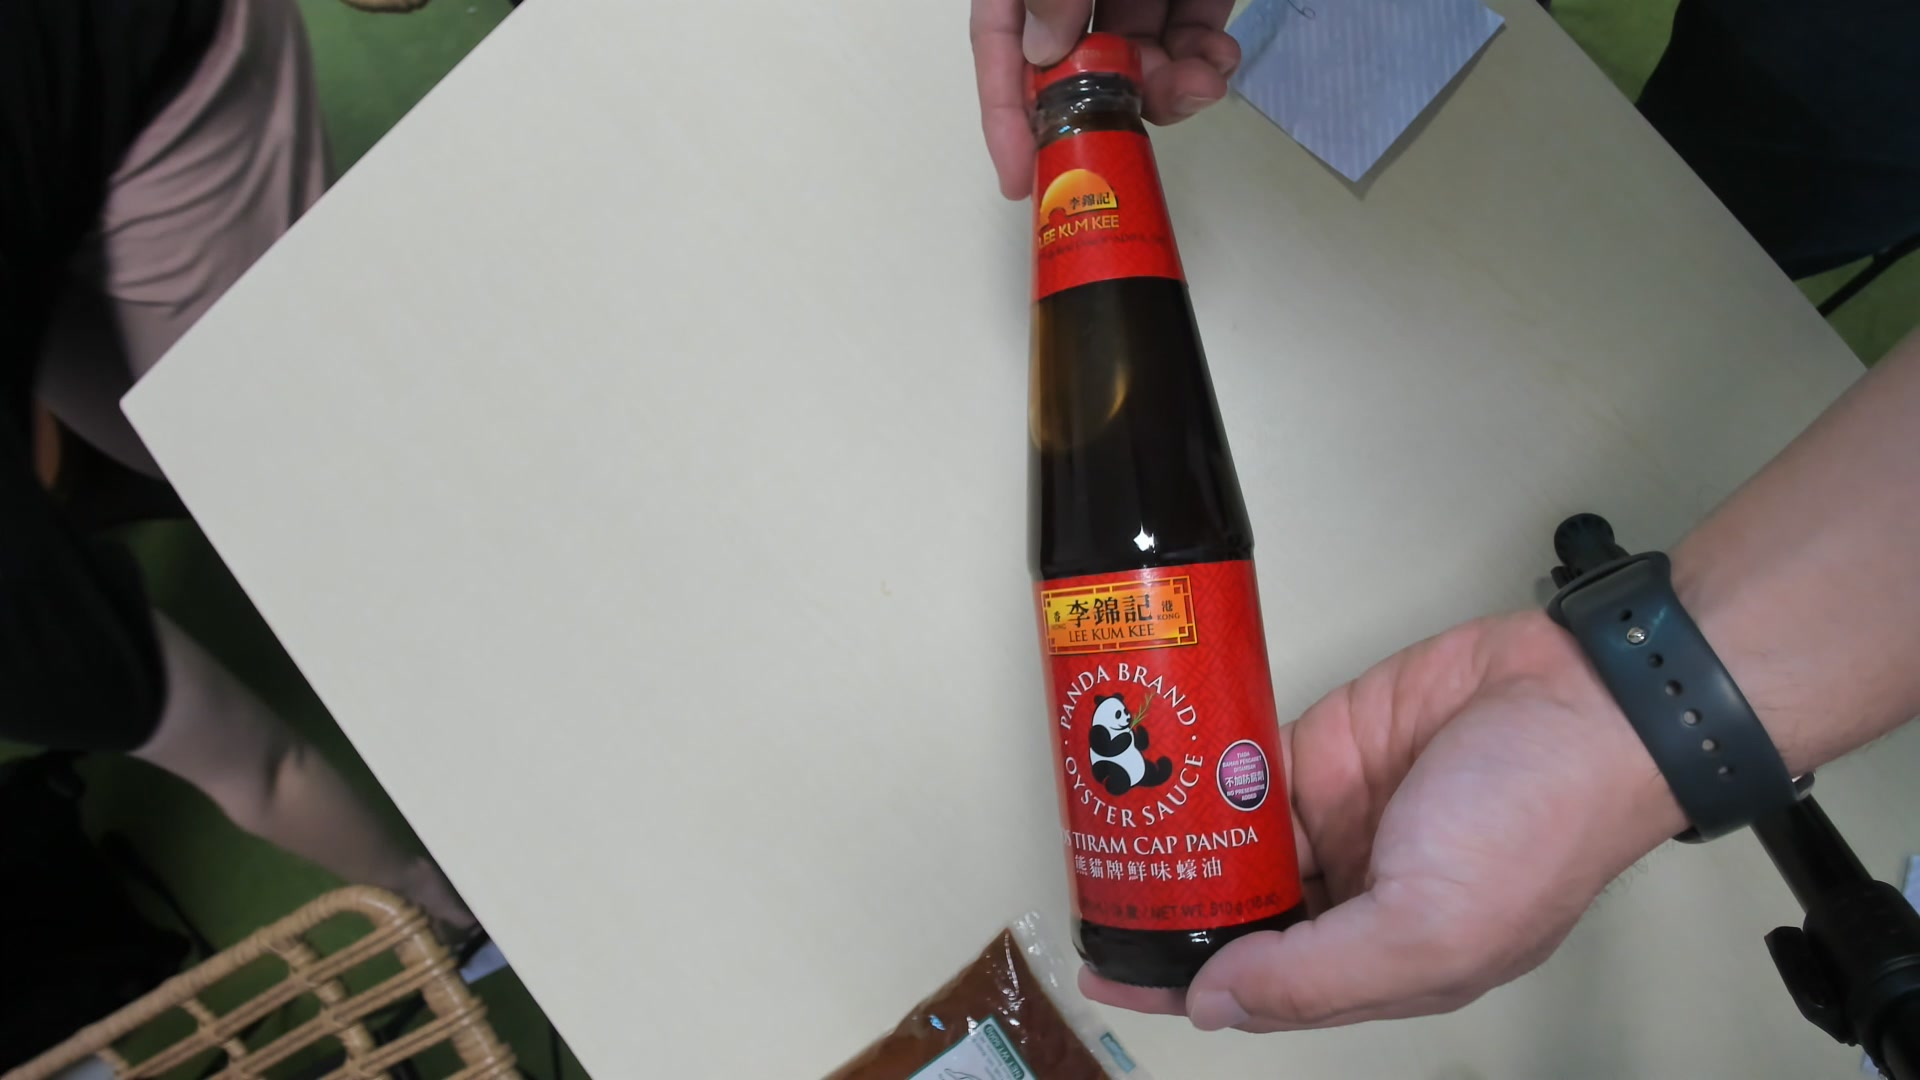OtherSauceDressingSoupbasePaste_500-599g_Halal_NonHealthy: (1025, 30, 1304, 990)
